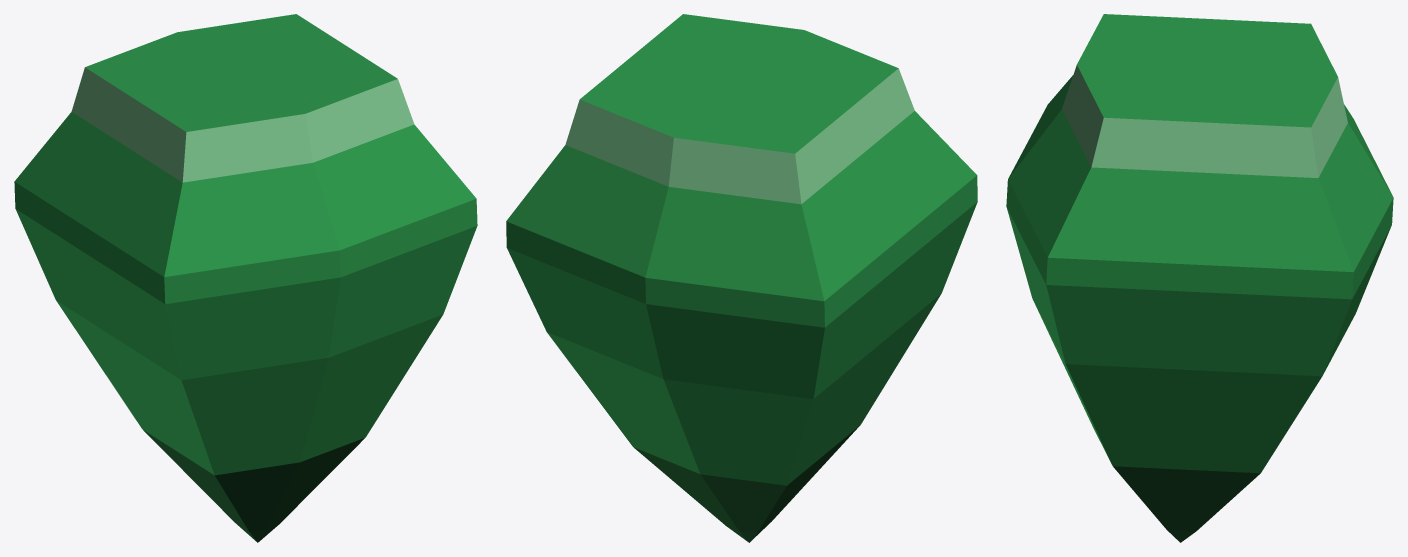
The model's file is emerald.gltf.
The picture shows the model from 3 angles, left to right: view 1: azimuth 30°, elevation 25°; view 2: azimuth 150°, elevation 25°; view 3: azimuth 270°, elevation 25°; orthographic projection. The views are drawn at different scales.
Parts seen in each view (by area): view 1: emerald; view 2: emerald; view 3: emerald.
Boxes of the visible parts, <box> form: emerald: <box>14,14,477,542</box>; emerald: <box>506,14,977,542</box>; emerald: <box>1006,14,1393,542</box>.
Size of the model in its own units: 0.142 by 0.2027 by 0.1492.
